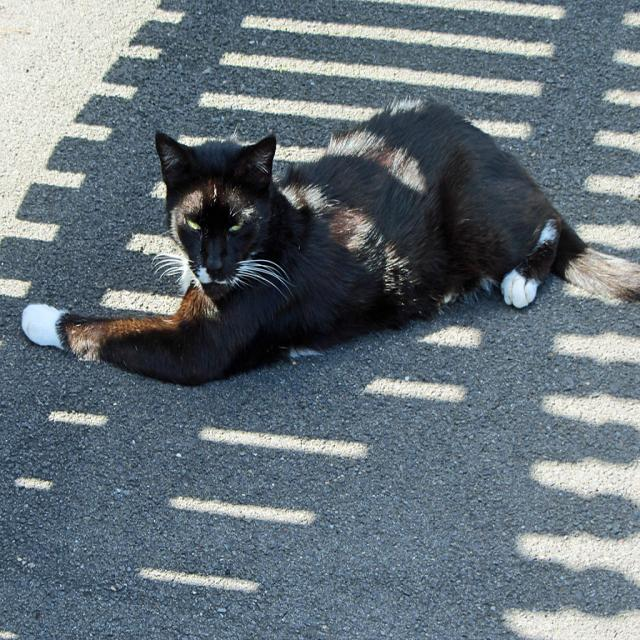Cat: (22, 94, 639, 388)
